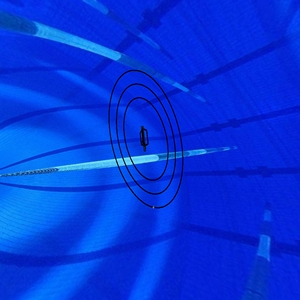circle: (103, 66, 190, 211)
submarine: (134, 123, 157, 158)
